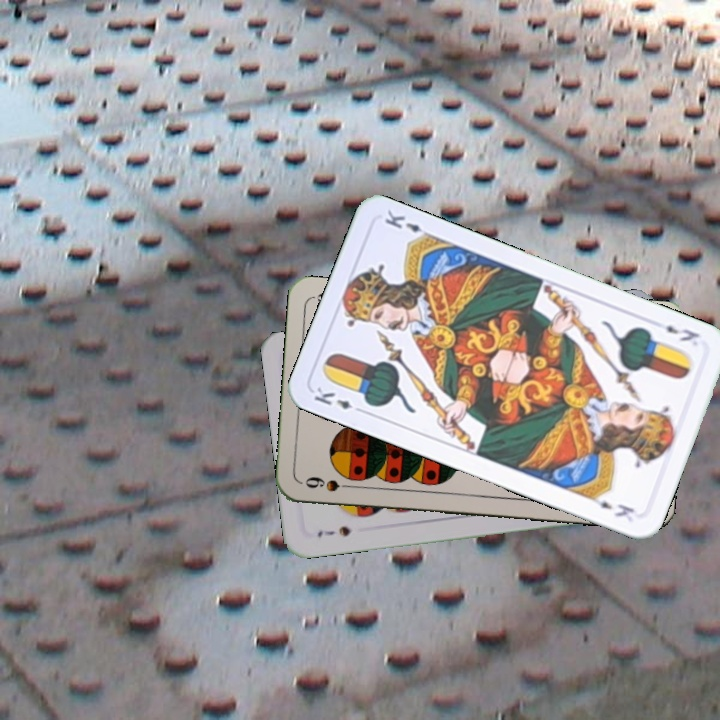EK: (309, 383, 367, 416), (661, 321, 702, 344)
S7: (313, 522, 354, 541)
S9: (301, 473, 359, 494)
